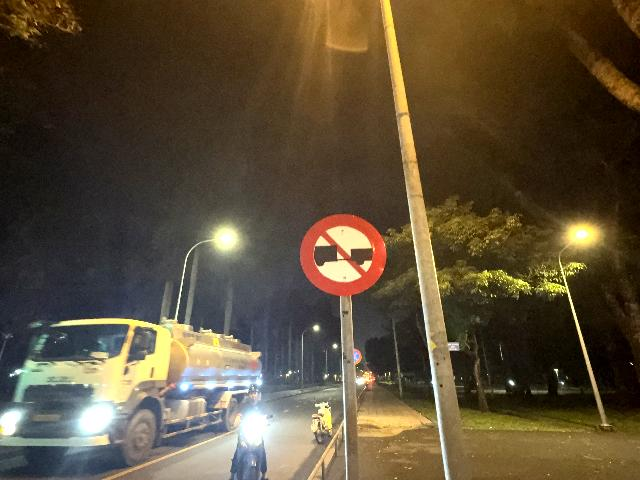cam-xe-somi-romooc: (299, 213, 388, 296)
